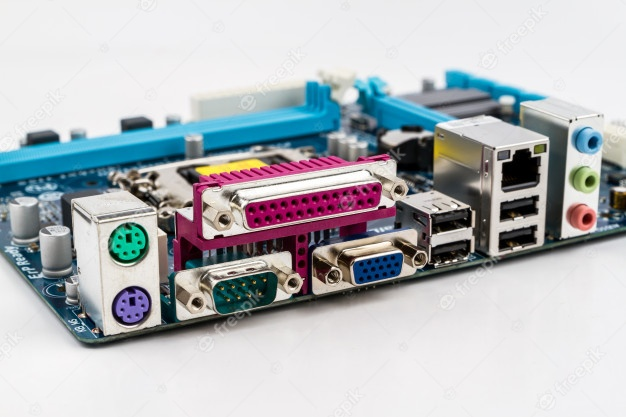Audio: (576, 123, 605, 158)
Ethernet: (495, 145, 546, 193)
VGA: (345, 250, 410, 286)
